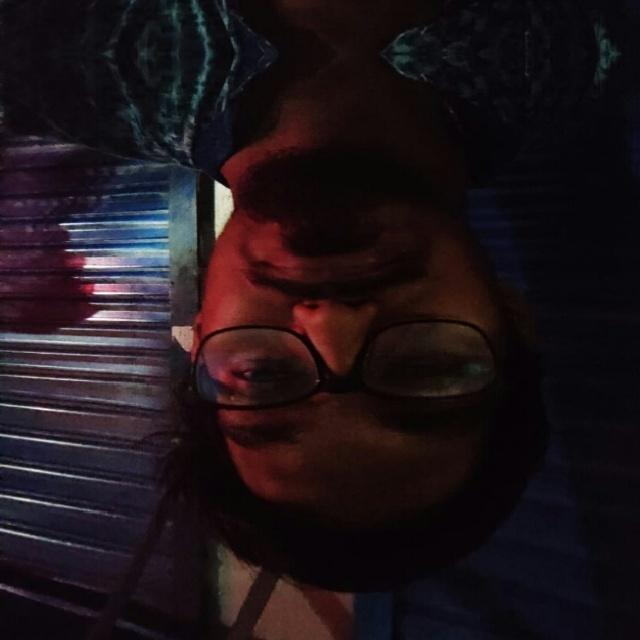Sad: (175, 135, 540, 557)
